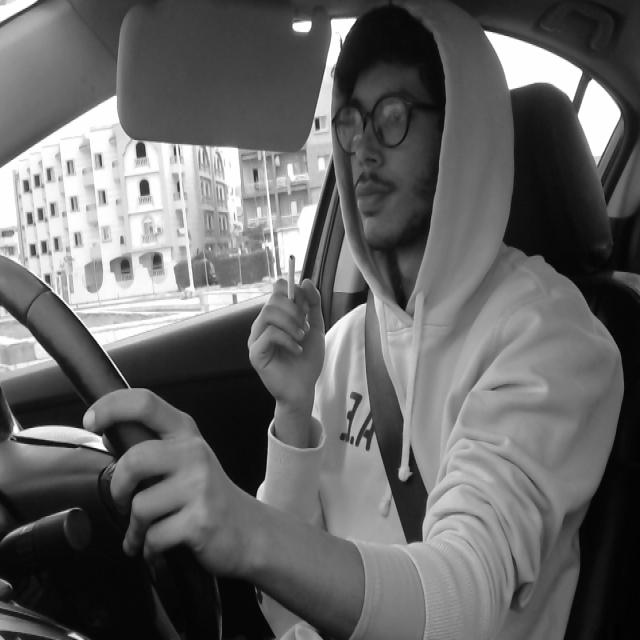smoking: (280, 250, 300, 324)
